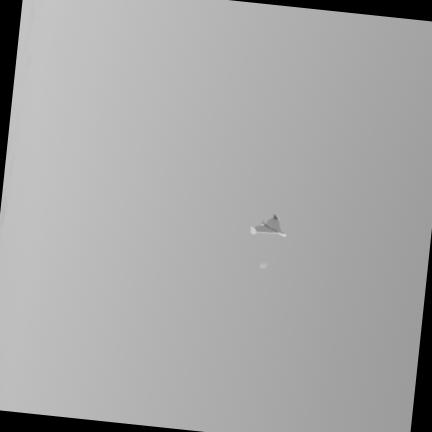Shahed: (250, 215, 284, 237)
